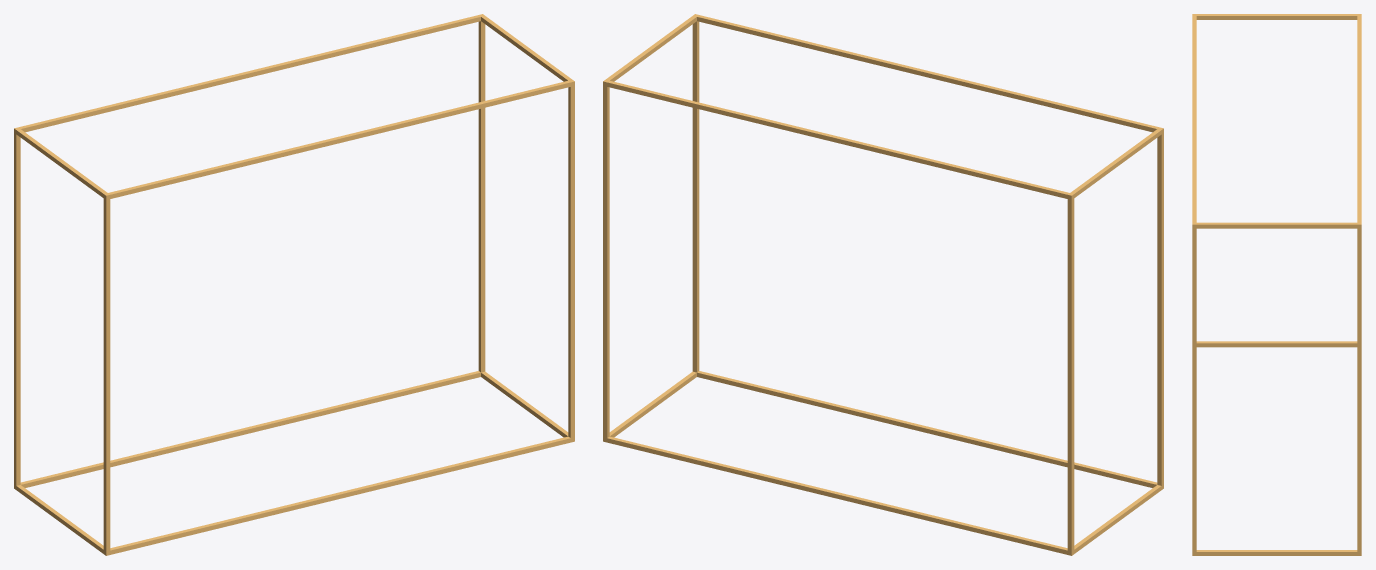
File: jackets.glb
3 renders of one model, left to right at view 1: azimuth 30°, elevation 25°; view 2: azimuth 150°, elevation 25°; view 3: azimuth 270°, elevation 25°, orthographic. The views are drawn at different scales.
Visible parts, largest first — view 1: box_0; view 2: box_0; view 3: box_0.
Boxes of the visible parts, x1,y1,x2,y2 form: box_0: (14,14,574,555); box_0: (603,14,1163,555); box_0: (1192,14,1361,555).
Bounding box in the file's own units: 1.12 × 0.8208 × 0.3805.
